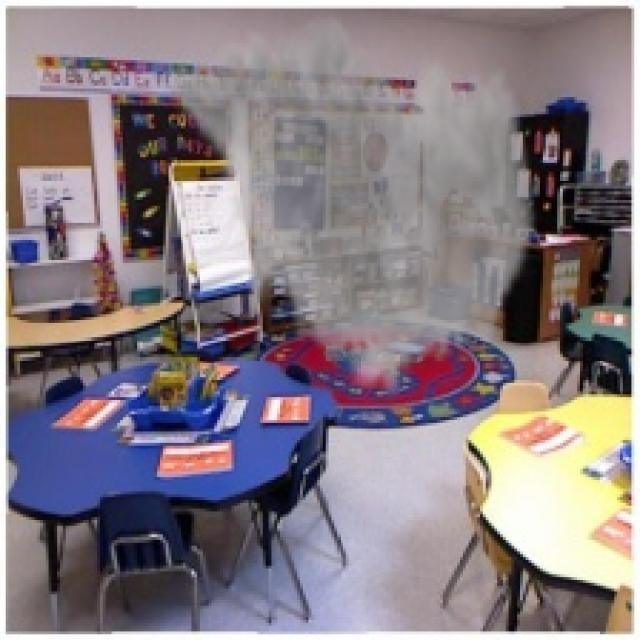smoke: (163, 3, 540, 406)
